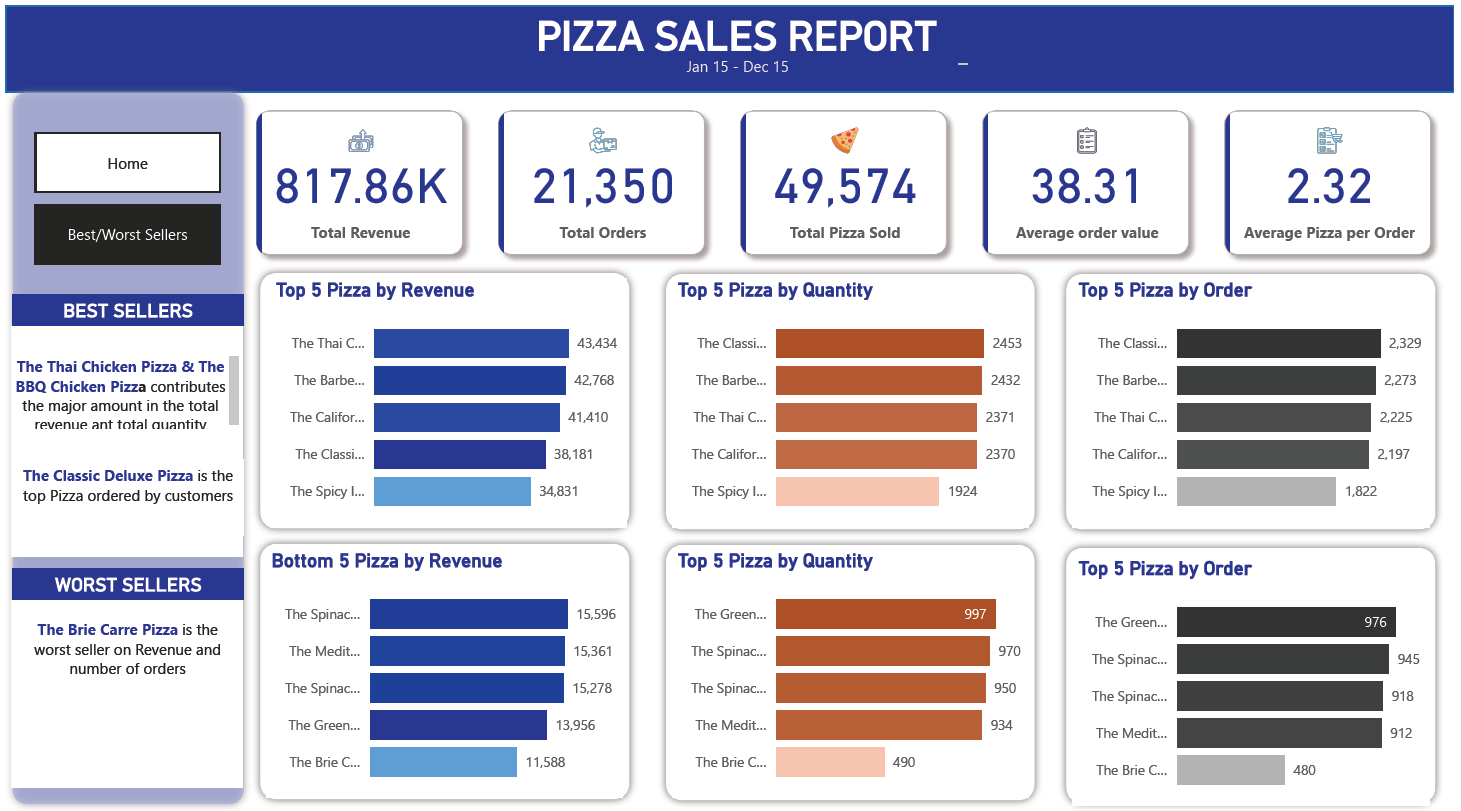

This screenshot's page, from the dashboard's own definition file:
{"tool":"powerbi","page":{"name":"Best/Worst Sellers","canvas":[1280,720],"ordinal":1},"visuals":[{"type":"cardVisual","fields":{"Data":["pizza_sales.Total Revenue","pizza_sales.Total Orders","pizza_sales.Total Pizza Sold","pizza_sales.Average order value","pizza_sales.Average Pizza per Order"]},"box":[204.8,77.1,1075.6,161.4],"z":0},{"type":"shape","box":[0,0,1280.4,77.1],"z":1000},{"type":"textbox","title":"PIZZA SALES REPORT","box":[438,6.2,417.6,52.3],"z":2000},{"type":"textbox","box":[582.6,39.9,129.5,30.1],"z":3000},{"type":"shape","box":[931,473,340,240],"z":4000},{"type":"shape","box":[0,70,218.2,642.7],"z":5000},{"type":"shape","box":[6.2,283.1,203.8,204.4],"z":6000},{"type":"textbox","title":"BEST SELLERS","box":[6.4,255.5,203.6,27.3],"z":7000},{"type":"textbox","box":[1,305,210,74],"z":8000},{"type":"textbox","box":[7.3,401.8,203.6,67.3],"z":9000},{"type":"textbox","title":"WORST SELLERS","box":[7.1,498.3,203.9,27.5],"z":10000},{"type":"shape","box":[6.2,525.8,203.9,164.9],"z":11000},{"type":"pageNavigator","box":[26.6,112.6,164.9,117.9],"z":12000},{"type":"shape","box":[931,231,340,240],"z":13000},{"type":"shape","box":[577,470,340,240],"z":14000},{"type":"shape","box":[577,231,340,240],"z":15000},{"type":"shape","box":[219,469,340,240],"z":16000},{"type":"shape","box":[219,230,340,240],"z":17000},{"type":"barChart","title":"Top 5 Pizza by Revenue","fields":{"Category":["pizza_sales.pizza_name"],"Y":["pizza_sales.Total Revenue"]},"box":[234,241,315,220],"z":18000},{"type":"barChart","title":"Bottom 5 Pizza by Revenue","fields":{"Category":["pizza_sales.pizza_name"],"Y":["pizza_sales.Total Revenue"]},"box":[231,480,315,220],"z":19000},{"type":"barChart","title":"Top 5 Pizza by Quantity","fields":{"Category":["pizza_sales.pizza_name"],"Y":["Sum(pizza_sales.quantity)"]},"box":[589,241,315,220],"z":20000},{"type":"barChart","title":"Top 5 Pizza by Quantity","fields":{"Category":["pizza_sales.pizza_name"],"Y":["Sum(pizza_sales.quantity)"]},"box":[589,480,315,220],"z":21000},{"type":"barChart","title":"Top 5 Pizza by Order","fields":{"Category":["pizza_sales.pizza_name"],"Y":["pizza_sales.Total Orders"]},"box":[943,241,315,220],"z":22000},{"type":"barChart","title":"Top 5 Pizza by Order","fields":{"Category":["pizza_sales.pizza_name"],"Y":["pizza_sales.Total Orders"]},"box":[943,487,315,220],"z":23000},{"type":"textbox","box":[7,538,203,80],"z":24000}]}

Visuals, with their boxes in screenshot pixels (x1, y1, x2, y2), scaled from the page's 1280x720 canvas onto the 1461x811 screenshot:
cardVisual - pizza_sales.Total Revenue x pizza_sales.Total Orders: 234/87/1460/269
shape: 0/0/1460/87
"PIZZA SALES REPORT" textbox: 500/7/977/66
textbox: 665/45/813/79
shape: 1063/533/1451/803
shape: 0/79/249/803
shape: 7/319/240/549
"BEST SELLERS" textbox: 7/288/240/319
textbox: 1/344/241/427
textbox: 8/453/241/528
"WORST SELLERS" textbox: 8/561/241/592
shape: 7/592/240/778
pageNavigator: 30/127/219/260
shape: 1063/260/1451/531
shape: 659/529/1047/800
shape: 659/260/1047/531
shape: 250/528/638/799
shape: 250/259/638/529
"Top 5 Pizza by Revenue" barChart: 267/271/627/519
"Bottom 5 Pizza by Revenue" barChart: 264/541/623/788
"Top 5 Pizza by Quantity" barChart: 672/271/1032/519
"Top 5 Pizza by Quantity" barChart: 672/541/1032/788
"Top 5 Pizza by Order" barChart: 1076/271/1436/519
"Top 5 Pizza by Order" barChart: 1076/549/1436/796
textbox: 8/606/240/696
